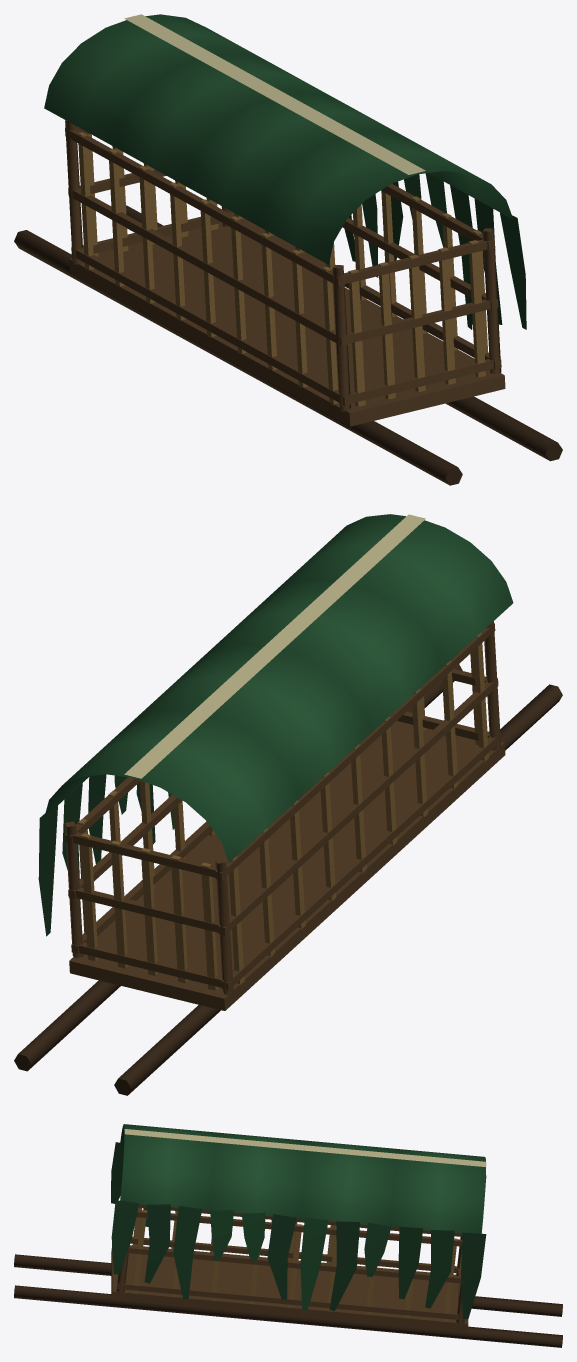
Rendered from keranda_terbang.glb.
3 views of the same model, one above another, from view 1: azimuth 30°, elevation 25°; view 2: azimuth 150°, elevation 25°; view 3: azimuth 270°, elevation 25° (orthographic). The views are drawn at different scales.
Parts seen in each view (by area): view 1: keranda_terbang; view 2: keranda_terbang; view 3: keranda_terbang.
Boxes of the visible parts, bbox=[...] form: keranda_terbang: bbox=[14, 14, 562, 485]; keranda_terbang: bbox=[14, 514, 562, 1095]; keranda_terbang: bbox=[14, 1124, 562, 1347].
Bounding box in the file's own units: 0.8046 × 1.2 × 2.99.
